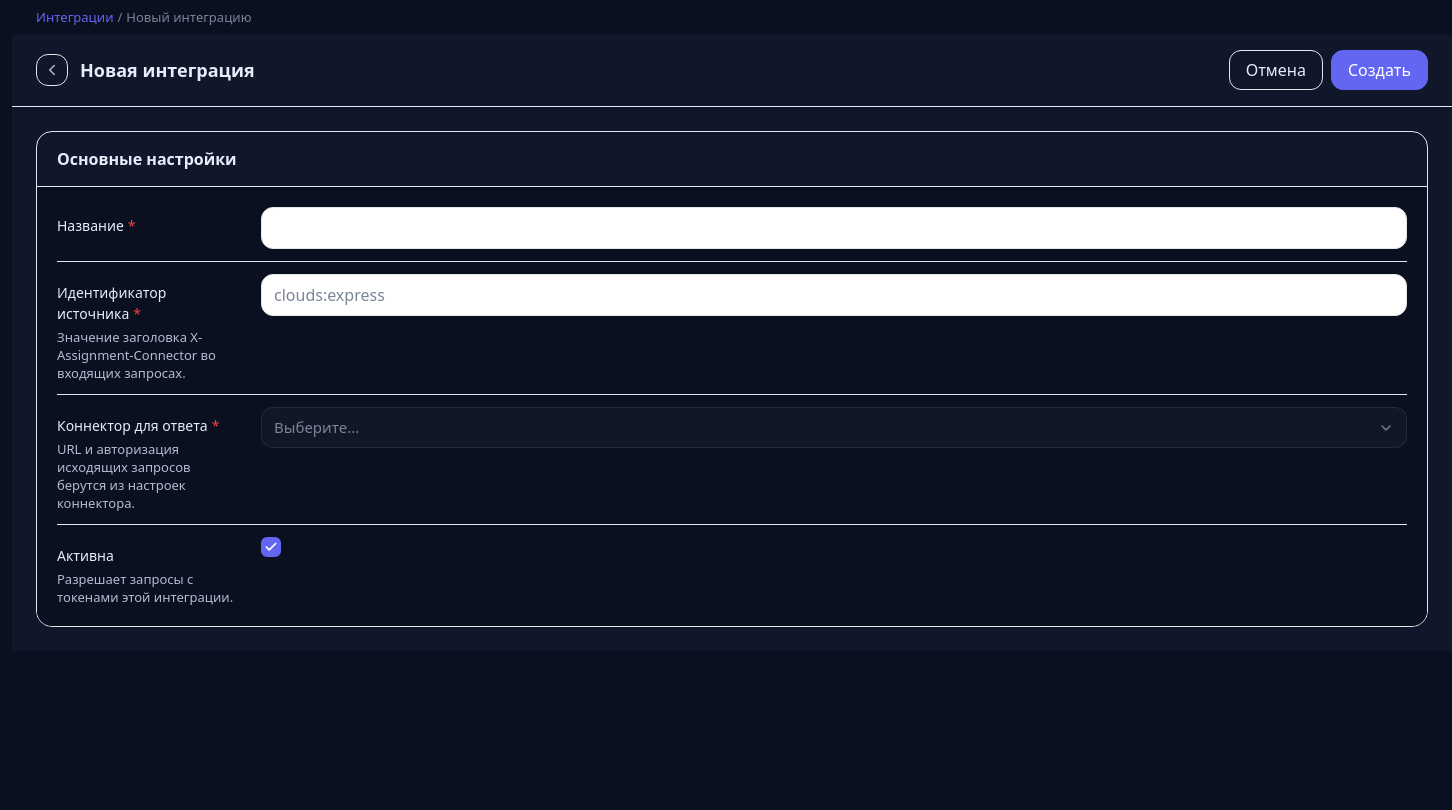
Test: shows the create and cancel buttons in the header of a new integration
Expected: the button "Создать" is enabled, [1331,50,1428,90]
Click the button "Отмена" at (1276, 70), box [1229,50,1323,90]
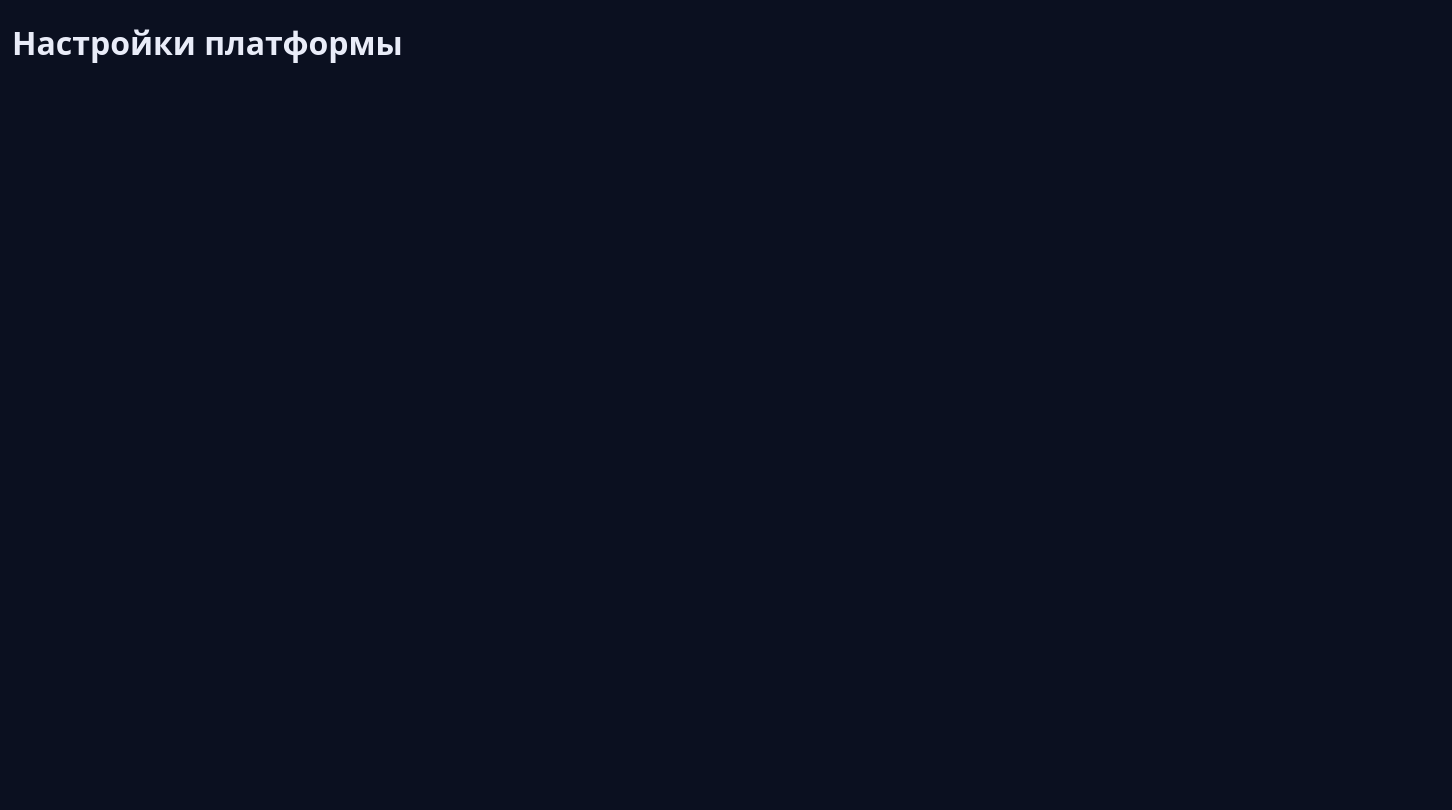
Expected: the heading "Настройки платформы" is shown, [12,21,403,64]
